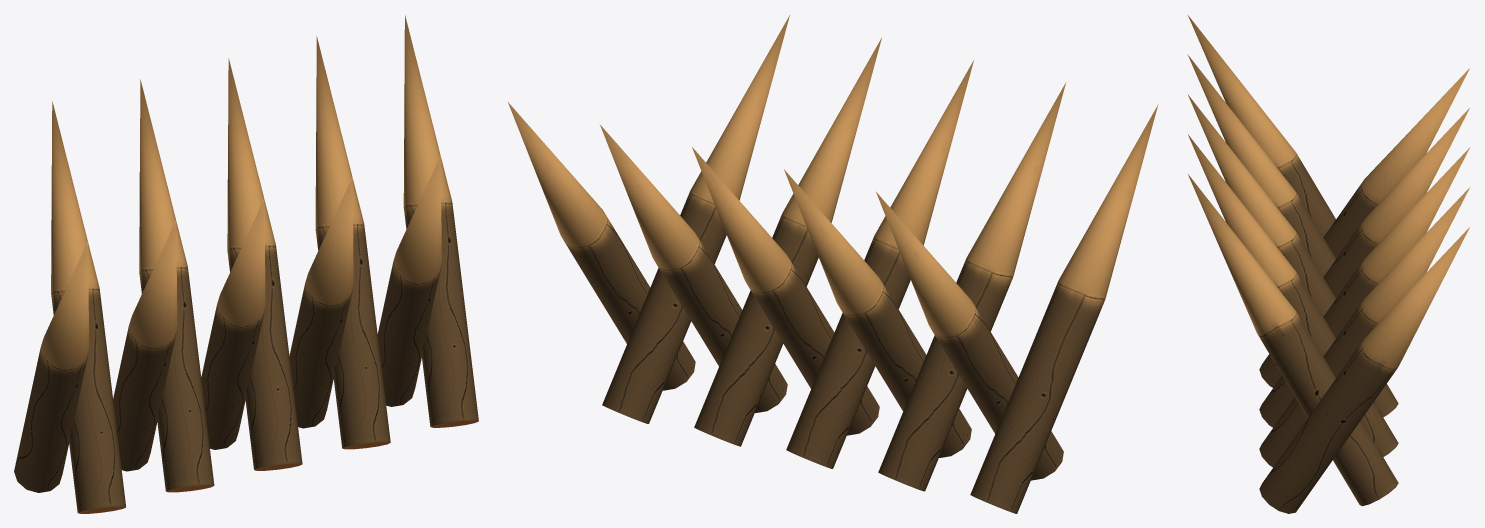
The model's file is SpikePit.fbx.
The picture shows the model from 3 angles, left to right: view 1: azimuth 30°, elevation 25°; view 2: azimuth 150°, elevation 25°; view 3: azimuth 270°, elevation 25°; orthographic projection. The views are drawn at different scales.
Visible parts, largest first — view 1: SpikePit_LOD0; view 2: SpikePit_LOD0; view 3: SpikePit_LOD0.
Boxes of the visible parts, x1=… form: SpikePit_LOD0: x1=14, y1=15, x2=478, y2=513; SpikePit_LOD0: x1=508, y1=15, x2=1158, y2=513; SpikePit_LOD0: x1=1187, y1=15, x2=1470, y2=513.
Size of what is drawn, in the model's own units: 100 by 67.61 by 56.56.
Materials: 1 (1 with a texture image).
